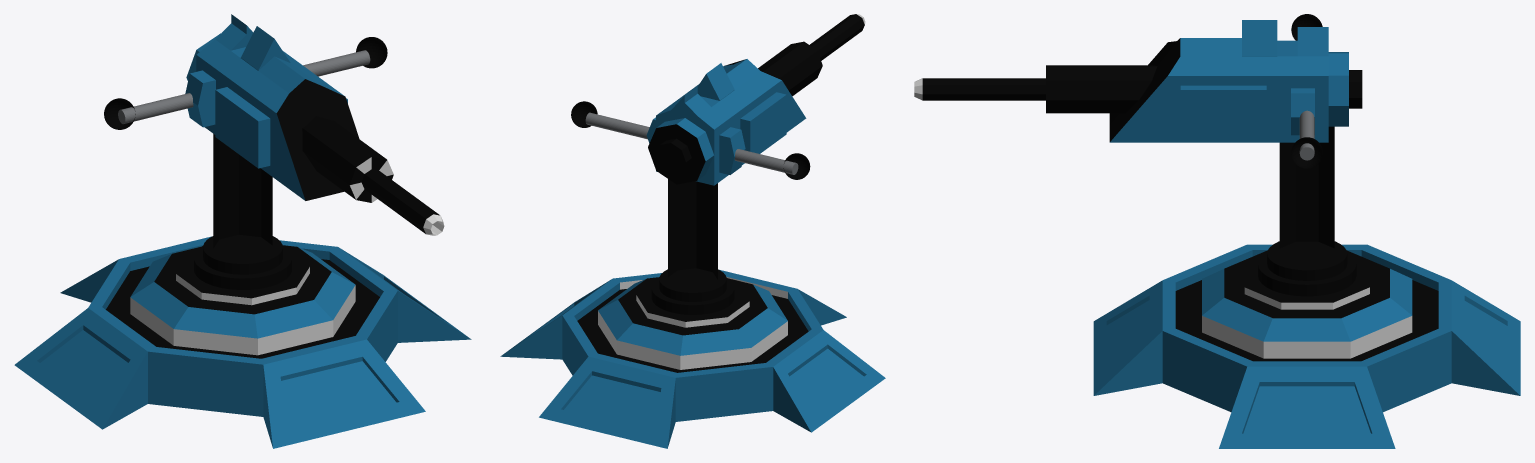
The model's file is turret 5.fbx.
3 views of the same model, side by side, from view 1: azimuth 30°, elevation 25°; view 2: azimuth 150°, elevation 25°; view 3: azimuth 270°, elevation 25° (orthographic). The views are drawn at different scales.
Visible parts, largest first — view 1: base_and_stem, Cube, cannon, Cylinder, Sphere, Sphere.001; view 2: base_and_stem, cannon, Cube, Cylinder, Sphere, Sphere.001; view 3: base_and_stem, Cube, cannon, Cylinder, Sphere.
Boxes of the visible parts, x1,y1,x2,y2 form: base_and_stem: (14, 134, 471, 448); Cube: (185, 14, 359, 200); cannon: (186, 33, 444, 289); Cylinder: (118, 50, 370, 124); Sphere: (356, 37, 387, 68); Sphere.001: (104, 98, 135, 129); base_and_stem: (500, 179, 885, 448); cannon: (648, 14, 865, 314); Cube: (646, 59, 806, 185); Cylinder: (585, 112, 798, 174); Sphere: (571, 101, 597, 127); Sphere.001: (783, 153, 810, 179); base_and_stem: (1093, 126, 1520, 448); Cube: (1109, 20, 1328, 142); cannon: (914, 52, 1362, 296); Cylinder: (1299, 110, 1314, 160); Sphere: (1291, 137, 1322, 168).
Size of the model in its own units: 185 by 161 by 262.
